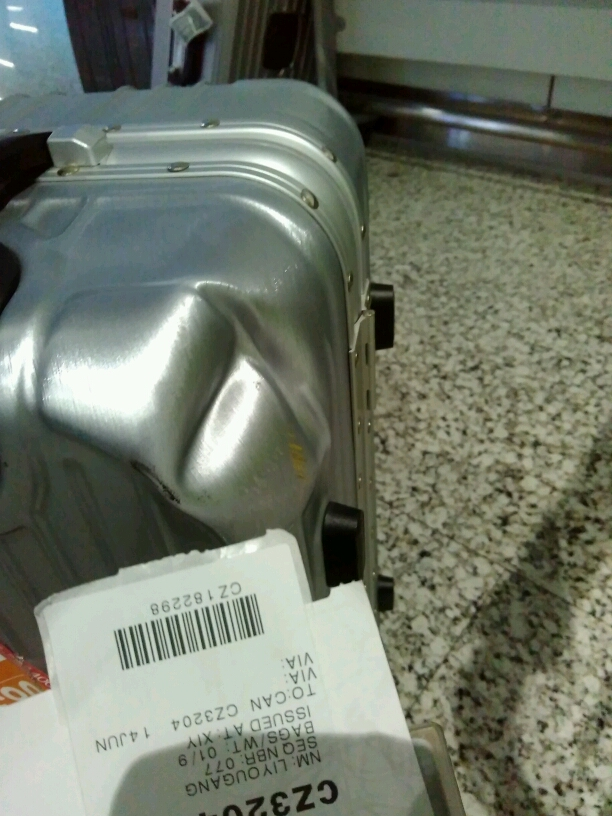rupture: (153, 278, 337, 492)
